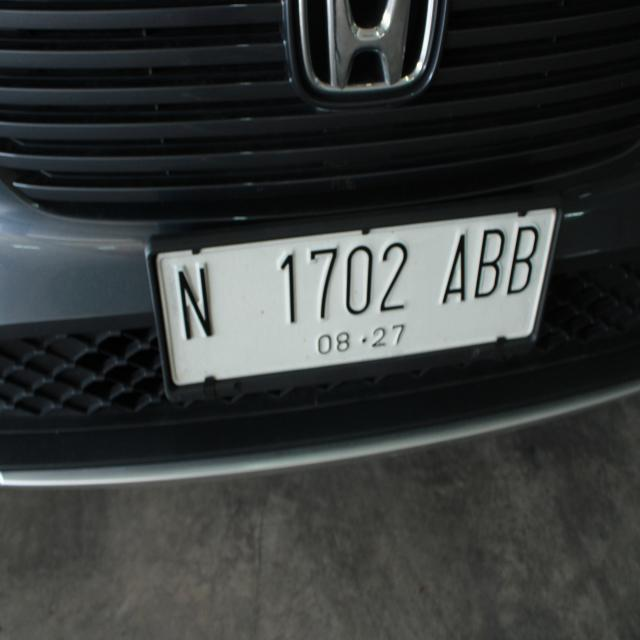0: (341, 240, 378, 317)
1: (270, 244, 308, 336)
2: (376, 238, 414, 318)
7: (300, 240, 336, 322)
A: (437, 222, 470, 318)
B: (503, 224, 541, 302), (472, 220, 504, 308)
N: (164, 252, 221, 357)
